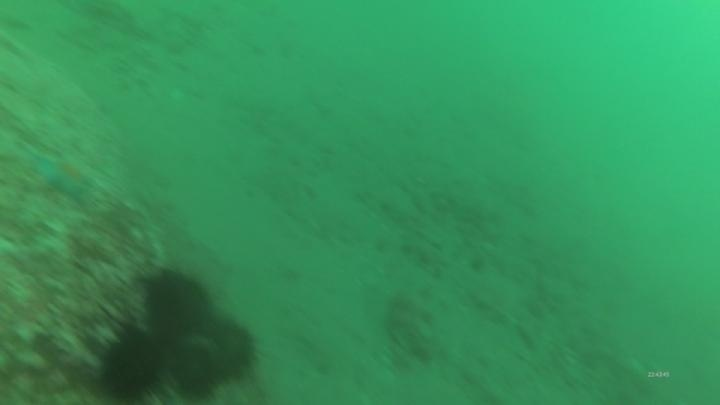echinus: (171, 313, 262, 390), (92, 321, 171, 404), (137, 264, 215, 342), (165, 323, 230, 401)
starfish: (30, 150, 96, 203)
